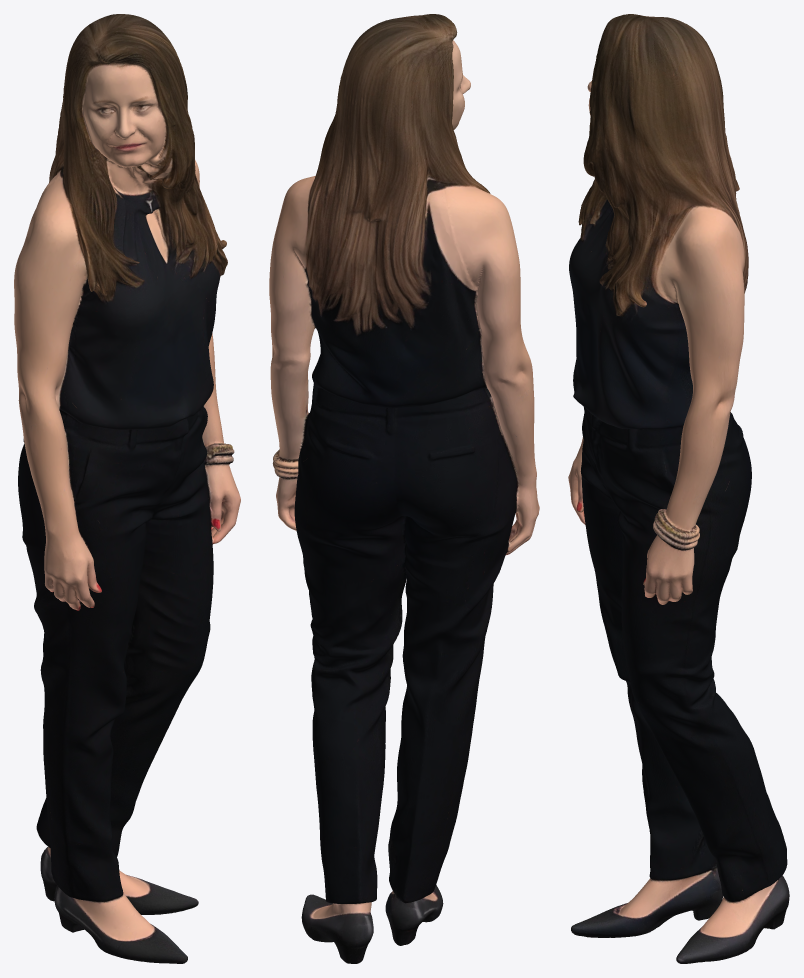
Rendered from portrait-of-a-woman-in-black-a3134577.glb.
3 views of the same model, side by side, from view 1: azimuth 30°, elevation 25°; view 2: azimuth 150°, elevation 25°; view 3: azimuth 270°, elevation 25° (orthographic). The views are drawn at different scales.
Parts seen in each view (by area): view 1: mesh_0; view 2: mesh_0; view 3: mesh_0.
Boxes of the visible parts, box(x1,y1,x2,y2) form: mesh_0: box(14, 14, 240, 963); mesh_0: box(269, 14, 539, 963); mesh_0: box(568, 14, 789, 963).
Size of the model in its own units: 0.5048 by 1.9 by 0.4202.
Materials: 1 (1 with a texture image).
